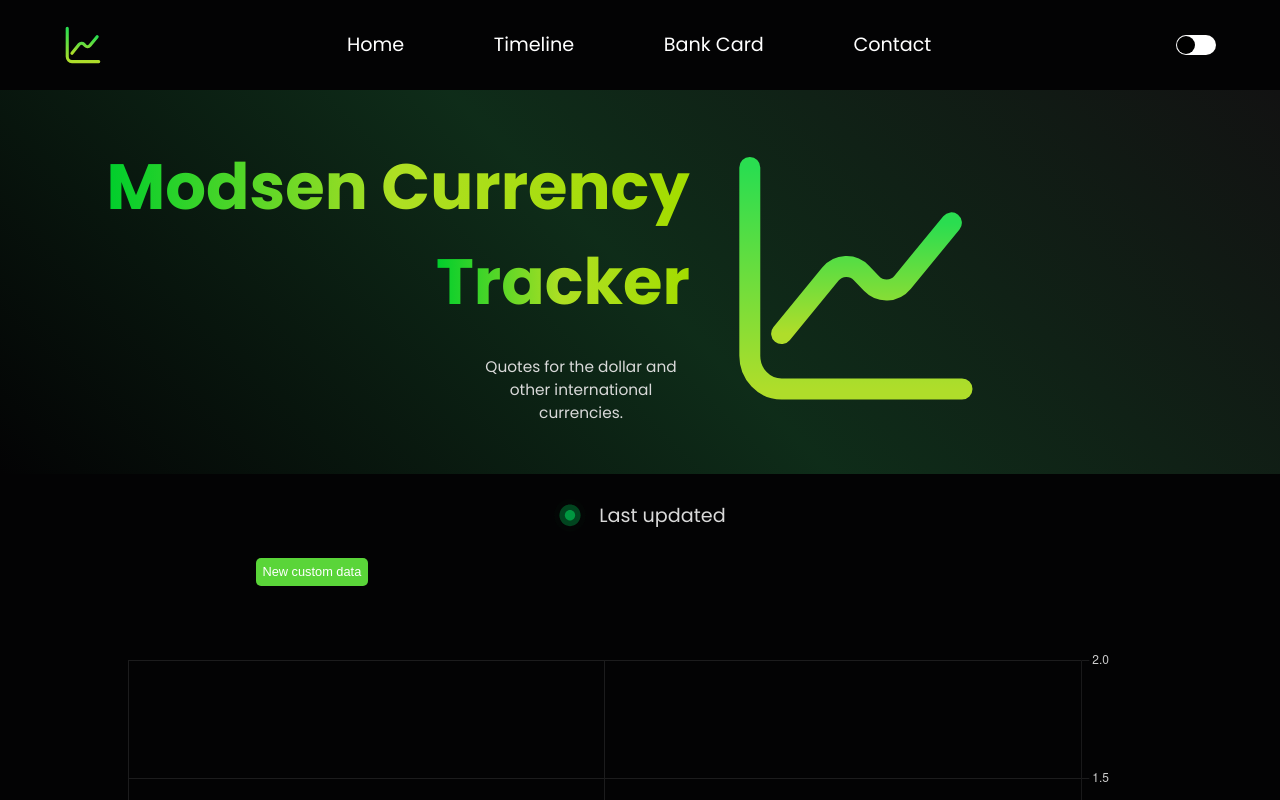
Test: Timeline Page Tests › Should show notification correctly
Click the button "New custom data" at [312, 572], box [256,558,368,586]
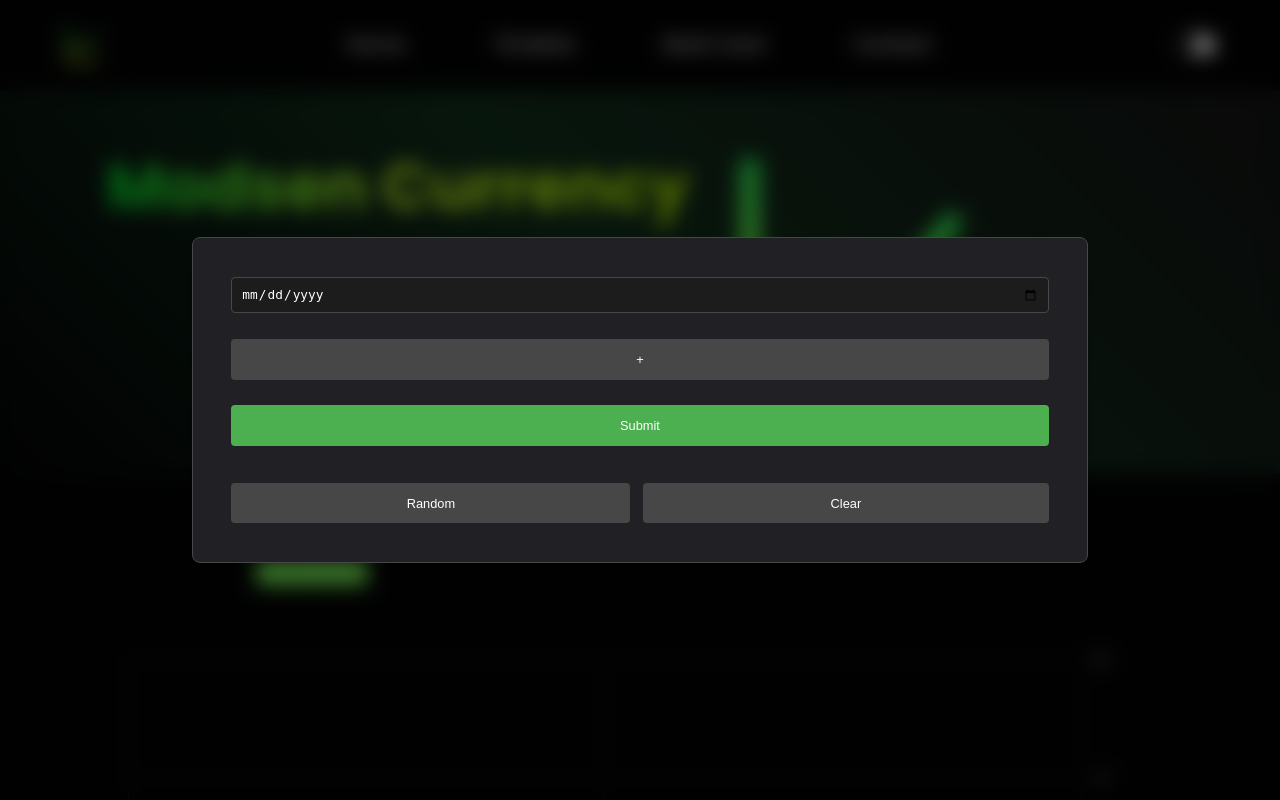
Click the button with test id "random-data-button" at [431, 504], box [231,483,630,524]
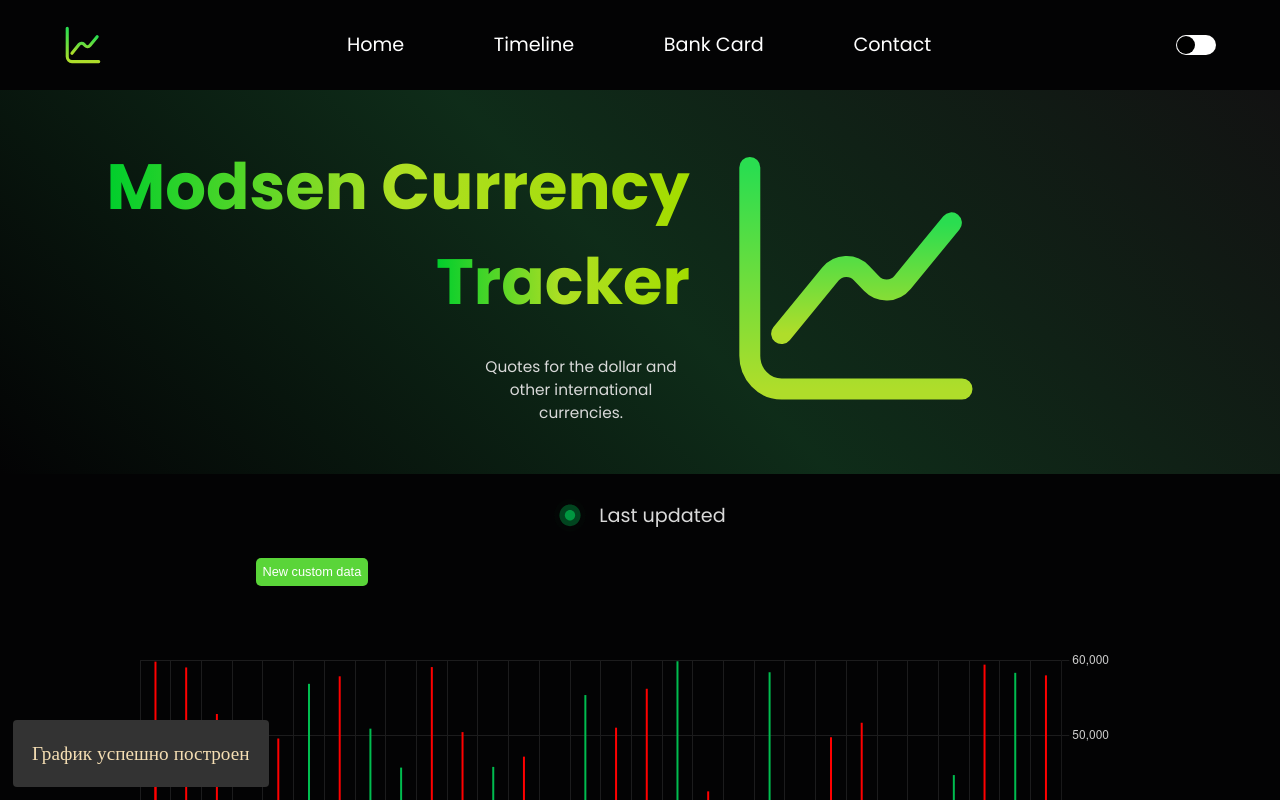
Result: the text "График успешно построен" is shown at [32,739,250,768]
